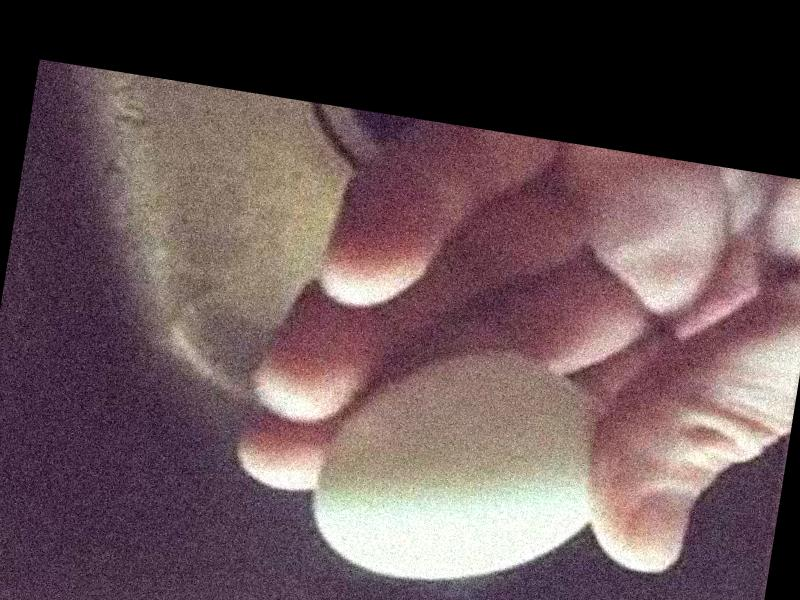Eggs: (309, 333, 618, 600)
